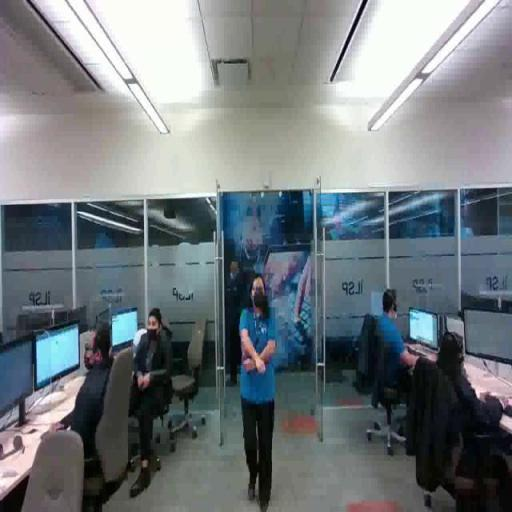person: (407, 329, 511, 494), (44, 320, 137, 500), (114, 305, 190, 496), (237, 267, 281, 512), (367, 283, 430, 407), (225, 259, 249, 392)
